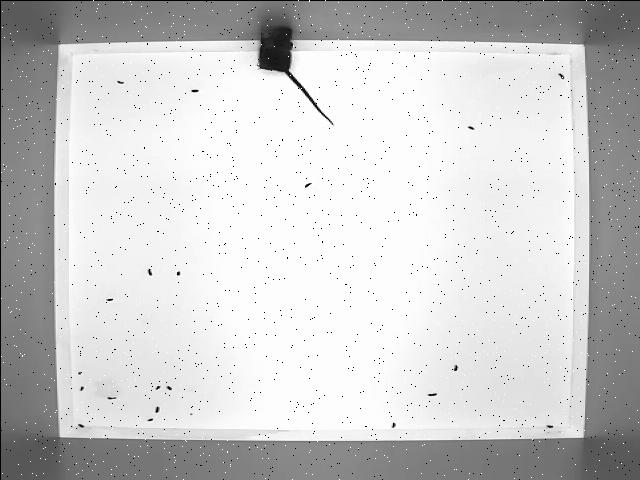Tikus: (255, 24, 336, 128)
